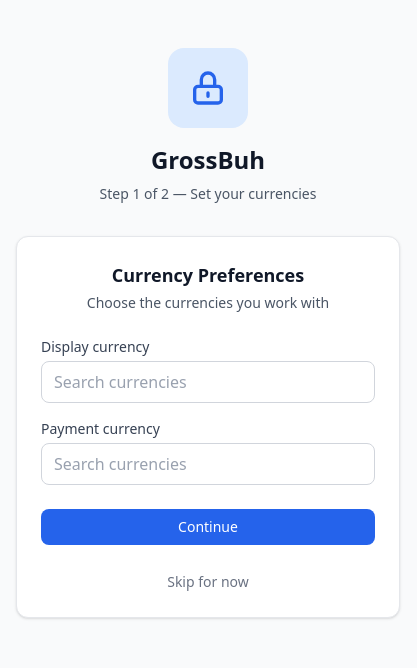
it: OnboardingPage › Step 1 — currencies › advances to step 2 without DB writes on Skip
Expected: the heading "Currency Preferences" is shown, x1=112 y1=263 x2=304 y2=287
Click the button "Skip for now" at [208, 582], box x1=167 y1=572 x2=249 y2=592
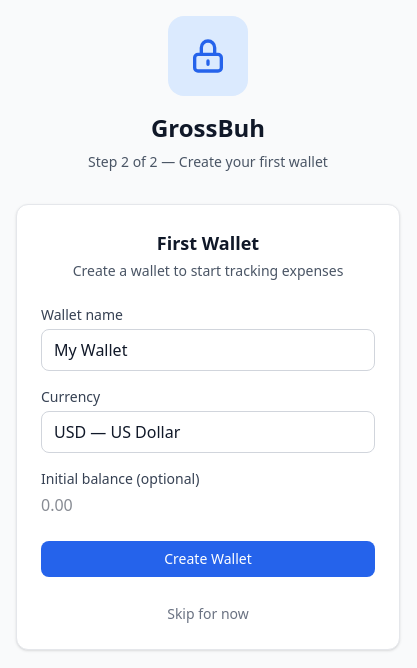
Result: the heading "First Wallet" is shown at x1=157 y1=231 x2=259 y2=255
